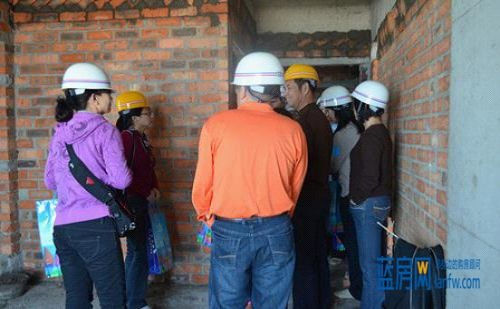white: (230, 48, 286, 112), (60, 59, 113, 121), (350, 79, 392, 122), (318, 84, 353, 126)
yellow: (280, 59, 320, 114), (112, 90, 154, 134)
